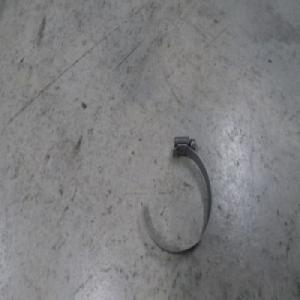AdjustableClamp: (141, 137, 211, 254)
